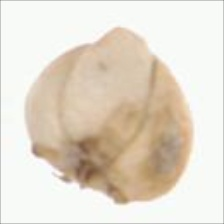L5: (55, 26, 160, 159), (31, 142, 133, 208)
L6: (22, 25, 195, 208)
